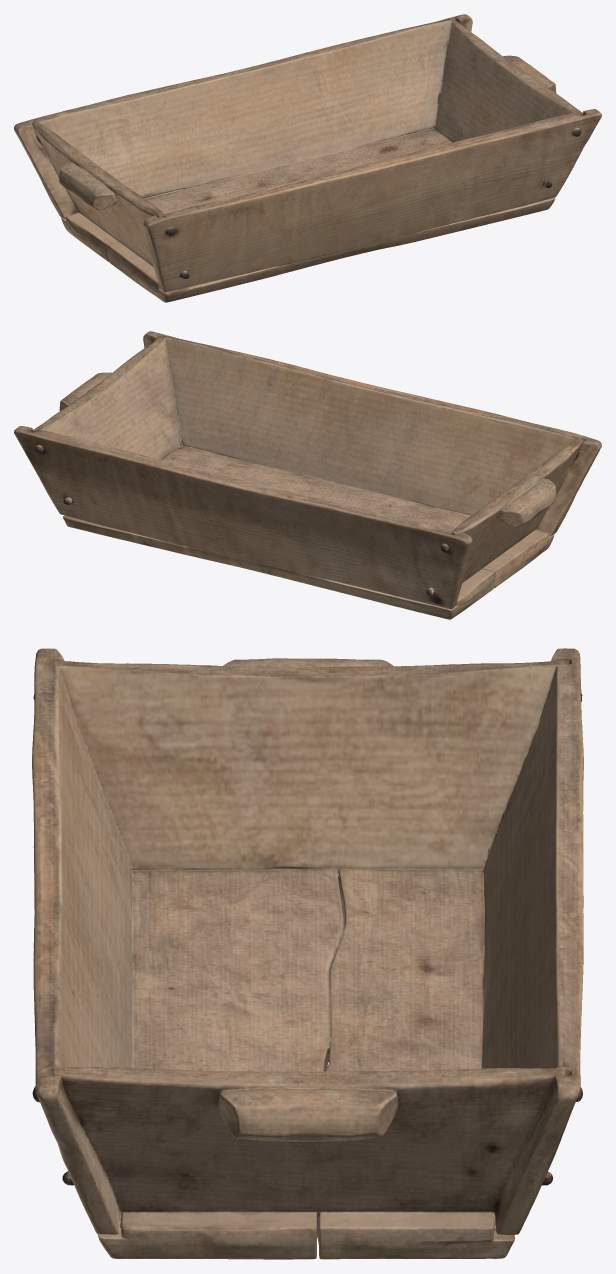
Rendered from kopanja.glb.
3 views of the same model, one above another, from view 1: azimuth 30°, elevation 25°; view 2: azimuth 150°, elevation 25°; view 3: azimuth 270°, elevation 25° (orthographic). The views are drawn at different scales.
Bounding box in the file's own units: 1.9 × 0.4113 × 0.9791.
Materials: 1 (1 with a texture image).
